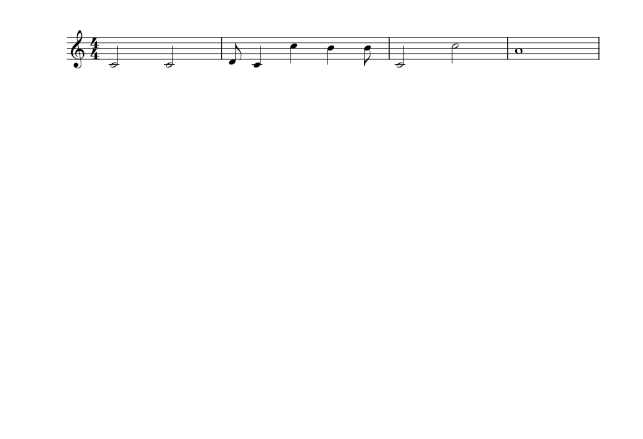Treble Clef: (67, 23, 90, 78)
